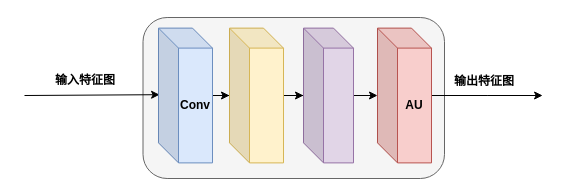
This 569x196 diagram has some shape labels left out. The box of each missing label's shape, as (x1, y1, x2, y2) in pixels:
BN: (228, 27, 284, 163)
ReLU: (302, 27, 354, 163)
